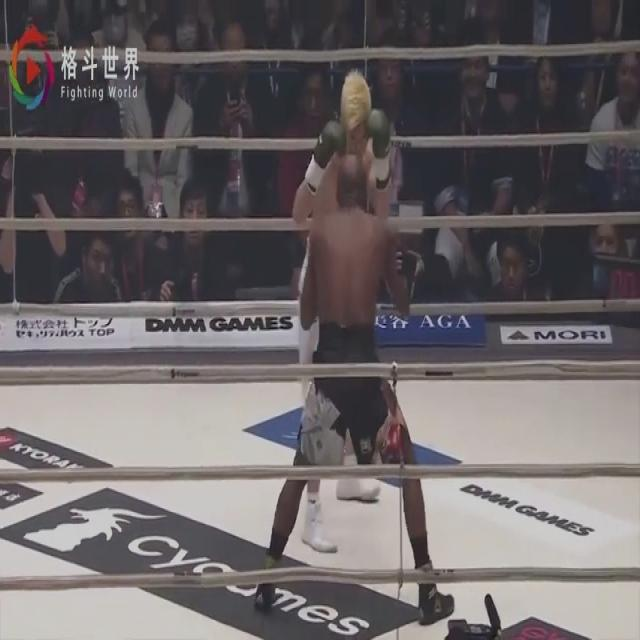fight: (254, 61, 459, 634)
non-fight: (188, 19, 271, 226), (34, 24, 124, 212), (122, 20, 196, 222), (367, 51, 430, 211), (155, 178, 230, 304), (586, 48, 638, 215), (107, 168, 165, 300), (54, 226, 124, 305)
